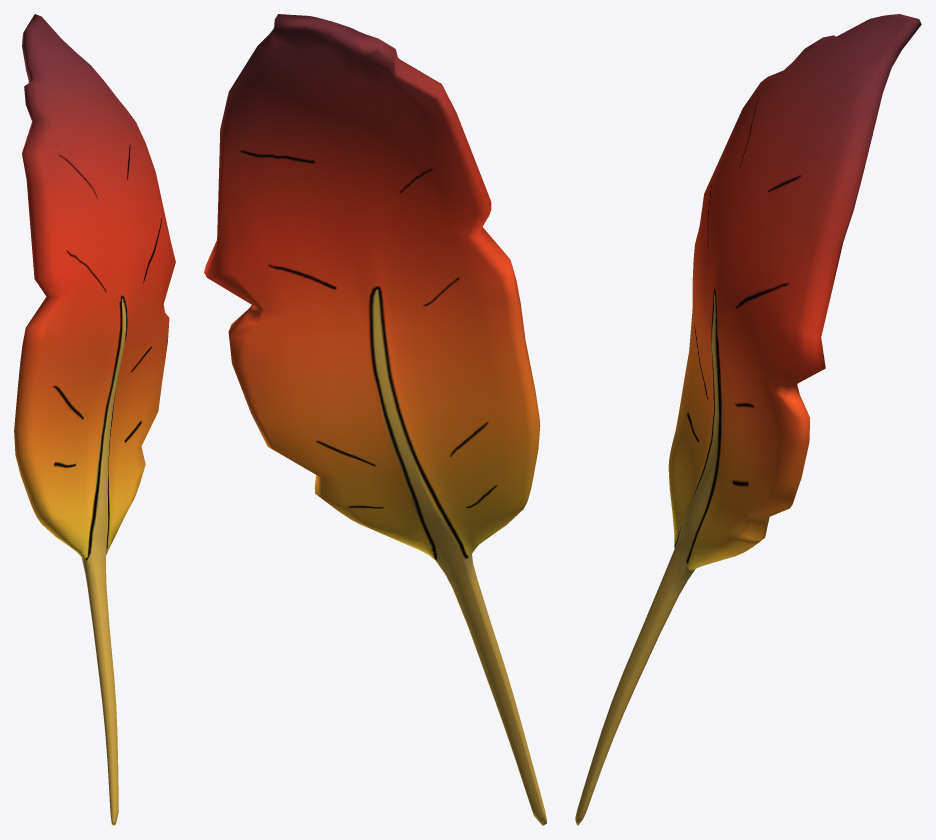
File: Quill_Model.fbx
3 views of the same model, side by side, from view 1: azimuth 30°, elevation 25°; view 2: azimuth 150°, elevation 25°; view 3: azimuth 270°, elevation 25° (orthographic). The views are drawn at different scales.
Visible parts, largest first — view 1: Quill; view 2: Quill; view 3: Quill.
Boxes of the visible parts, left/top/right/bottom form: Quill: left=14, top=14, right=175, bottom=825; Quill: left=204, top=14, right=546, bottom=825; Quill: left=575, top=14, right=921, bottom=825.
Size of the model in its own units: 63.47 by 206 by 76.68.
Materials: 1 (1 with a texture image).
